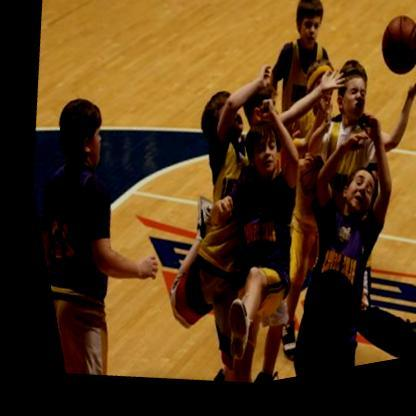basketball: (368, 23, 416, 96)
